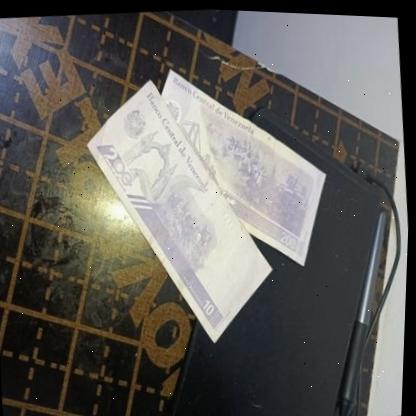ten-back-vef: (76, 65, 287, 354)
two_hundred-back-vef: (153, 52, 339, 276)
